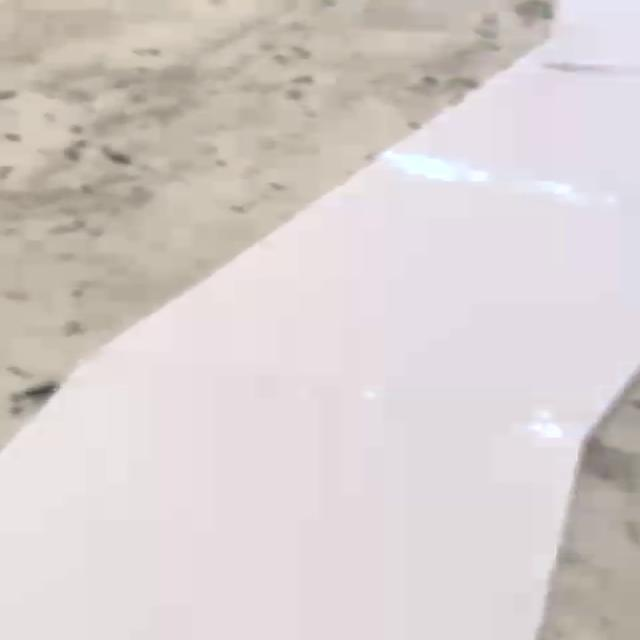road: (1, 0, 639, 640)
